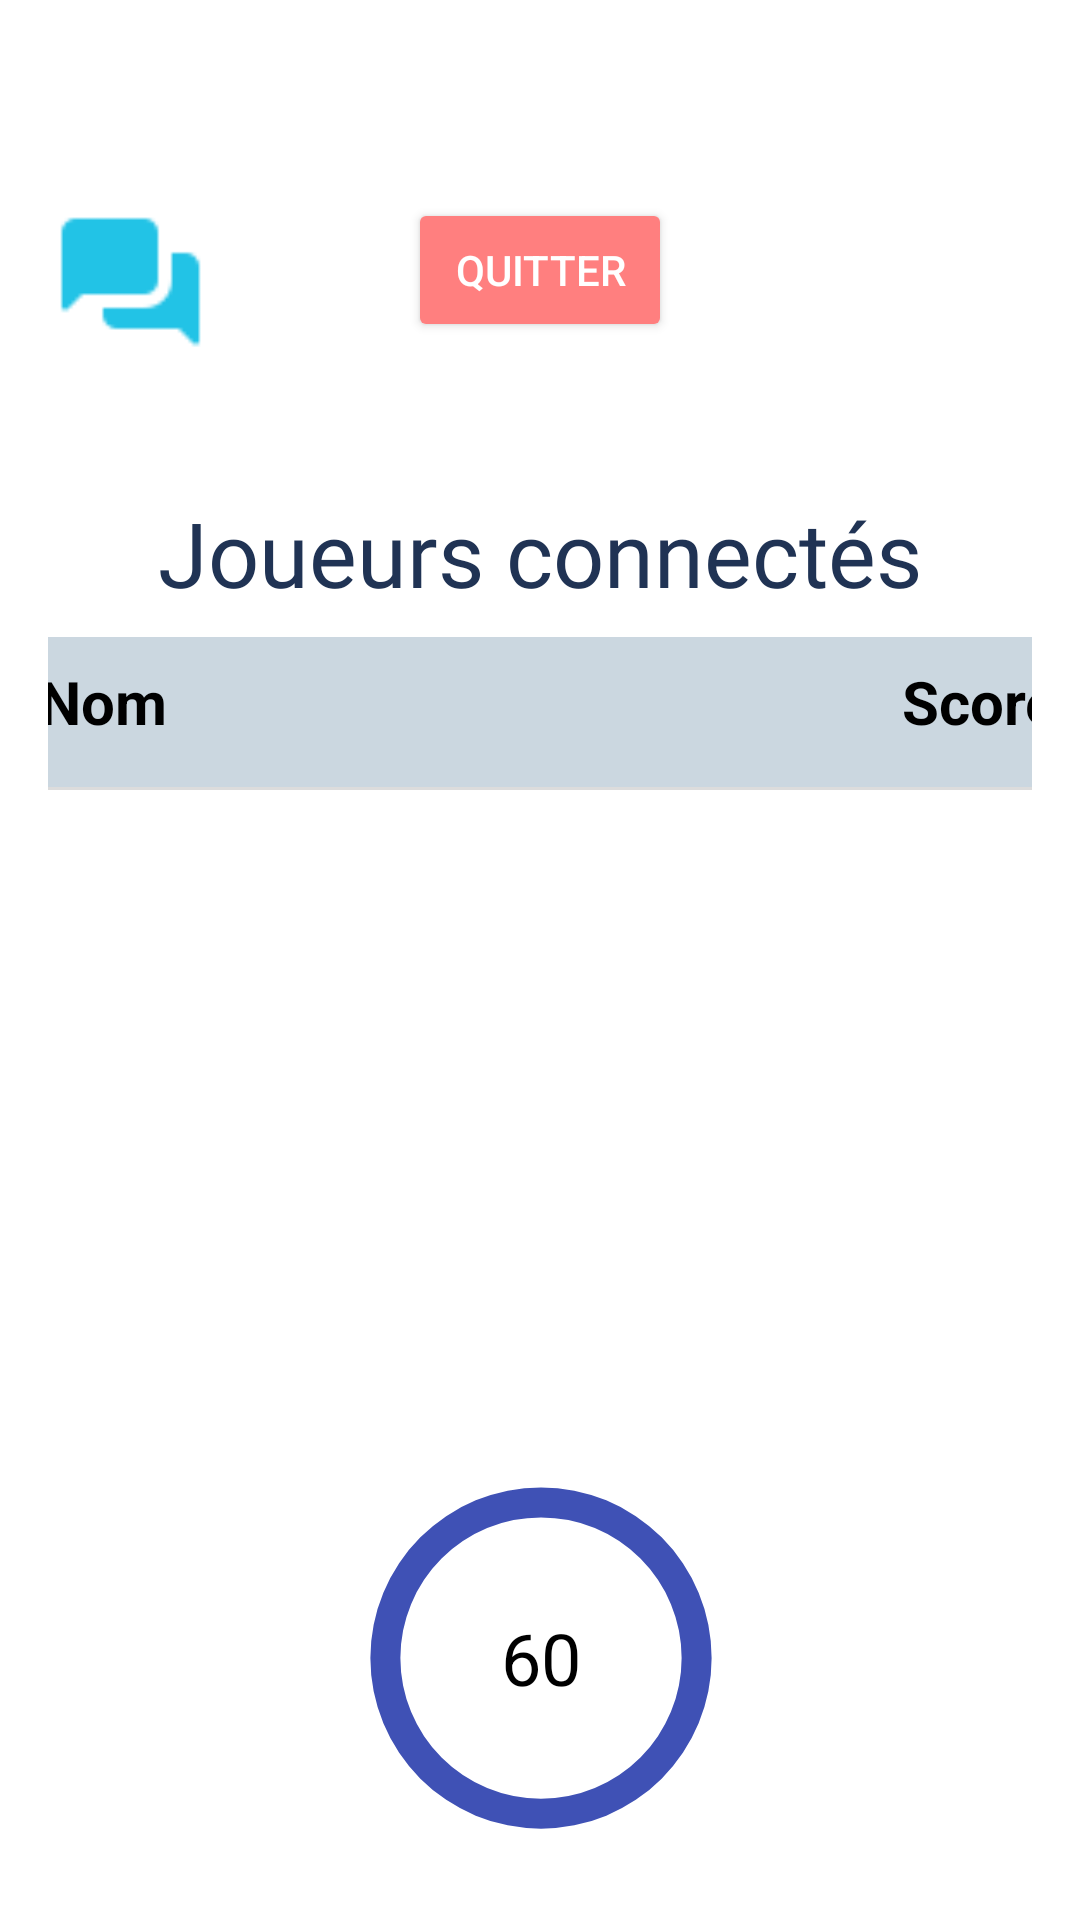

Locate icon controls on the screen. Image size 1080 x 1920, boxes as bbox=[x1, y1, x2, y2].
use chat: bbox=[60, 217, 201, 347]
